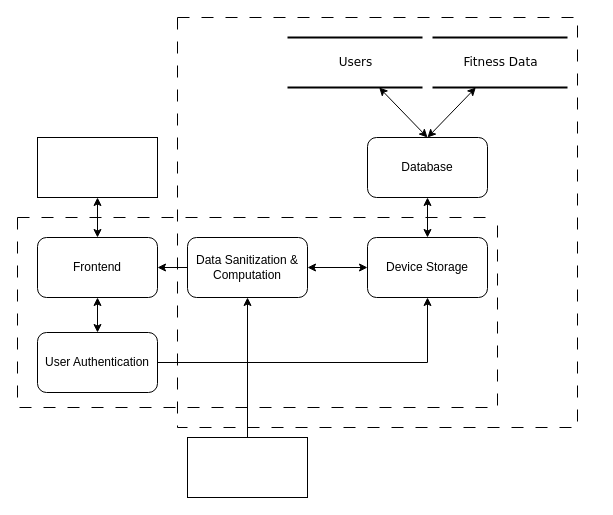
This 613x515 diagram has some shape labels left out. Here are the shapes that lost their labels. From the top down, the centre of each, then its label:
point 97,167: User
point 247,467: Bluetooth Device
